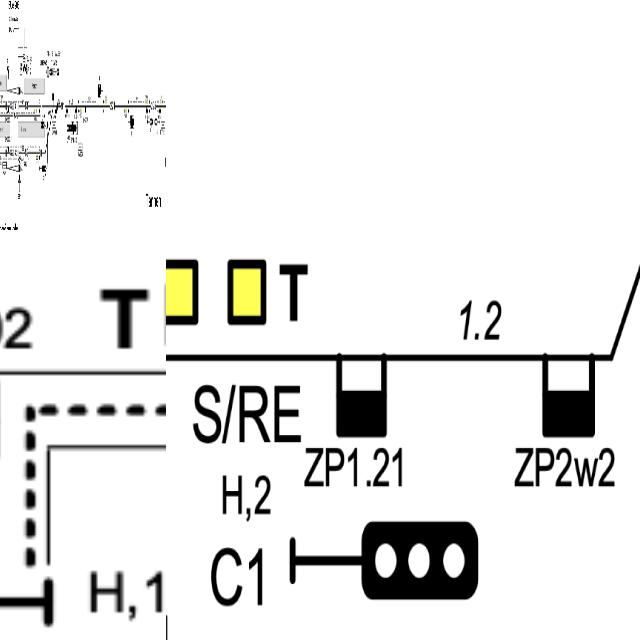mainsignal: (282, 511, 485, 614), (42, 166, 46, 173)
radzaehler: (535, 347, 598, 442), (332, 349, 390, 442), (74, 104, 77, 115), (159, 105, 161, 116), (54, 104, 56, 114), (66, 104, 68, 114), (146, 104, 148, 114)
trackjoint: (40, 148, 42, 159), (18, 150, 20, 158), (18, 102, 20, 110), (5, 103, 7, 110), (41, 102, 42, 111), (5, 149, 6, 156)
tracknumber: (109, 102, 116, 114), (151, 100, 156, 112), (24, 102, 28, 112), (24, 148, 28, 158), (60, 102, 64, 110)
weiche: (51, 91, 54, 108)
